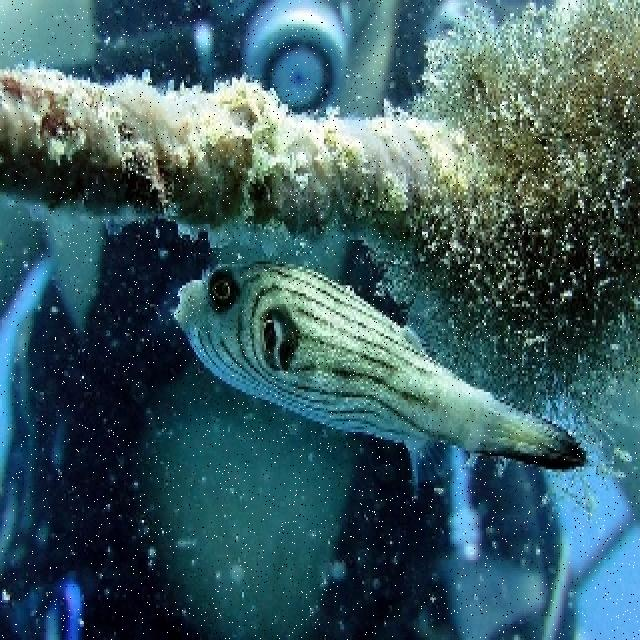aquatic plants: (0, 0, 638, 423)
fish: (174, 262, 590, 488)
robots: (1, 0, 578, 638)
